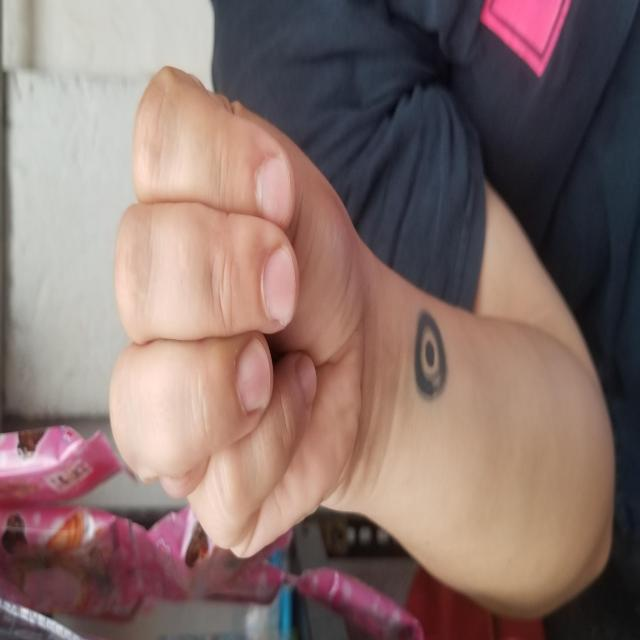M: (79, 109, 576, 361)
